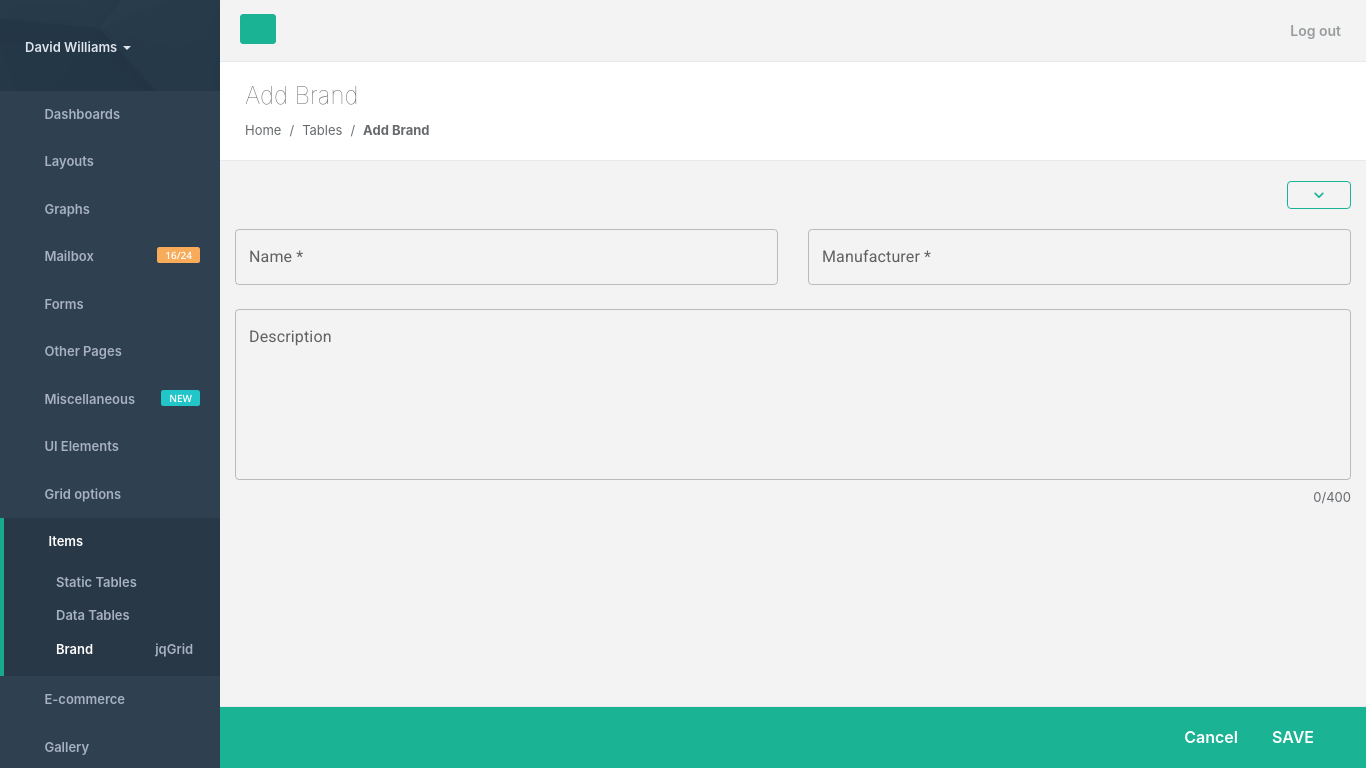
Test: Test if counting letters in brand description worsk properly
In the text box labelled "Description": (793, 394) [249,325,1337,463], type "desc"
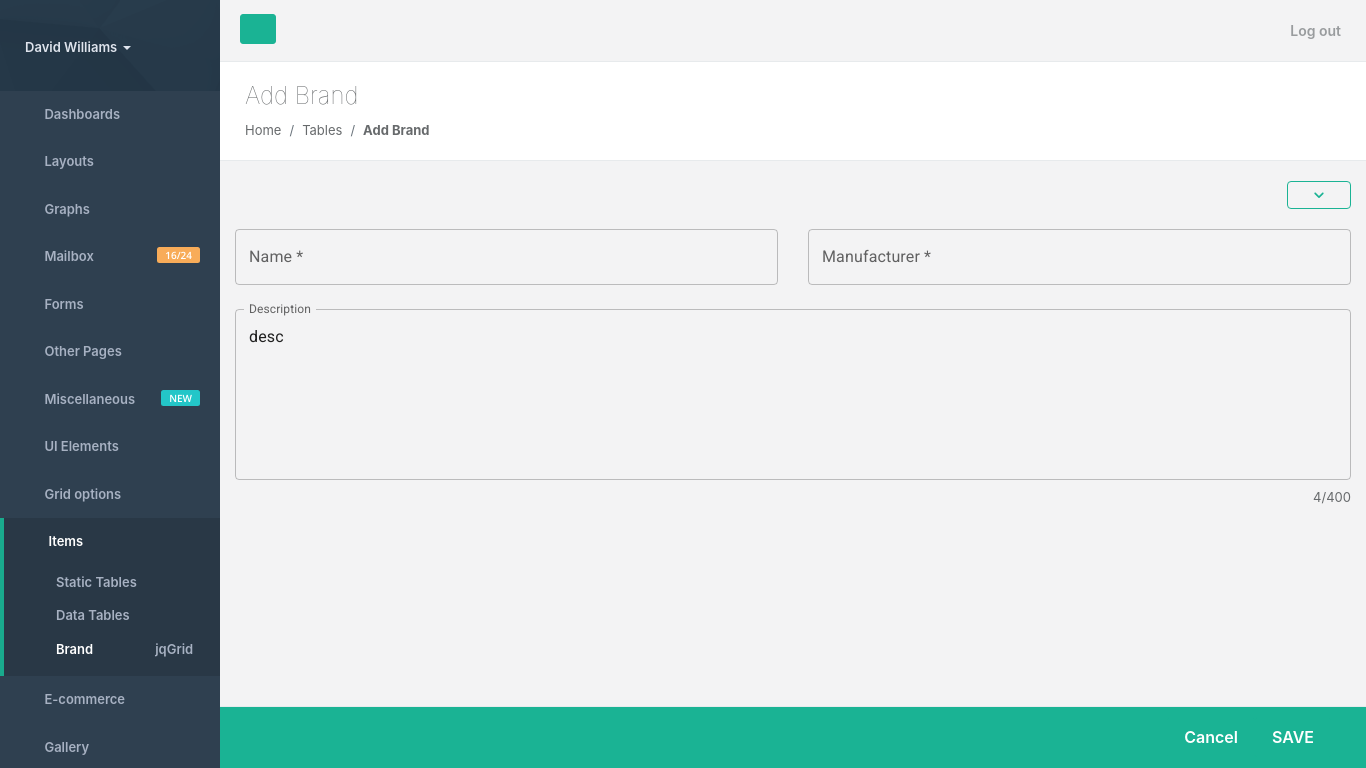
Check: the text with test id "countingLetters" reads "4/400", box [1313,488,1351,507]
